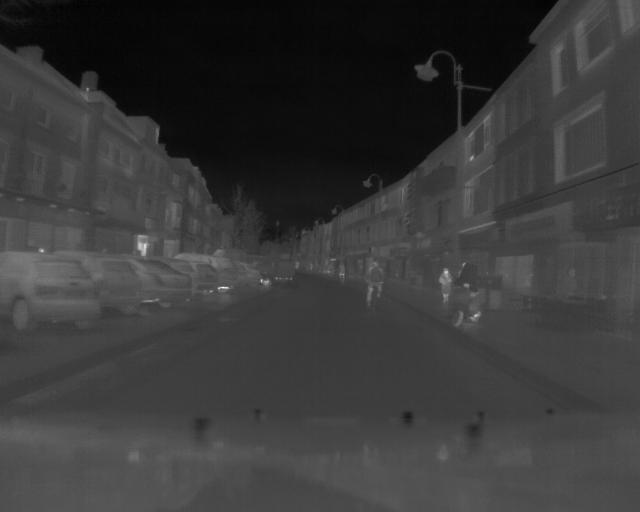car: (1, 251, 105, 335), (169, 253, 234, 292)
person: (363, 260, 385, 309), (438, 265, 453, 305), (338, 260, 347, 282)
